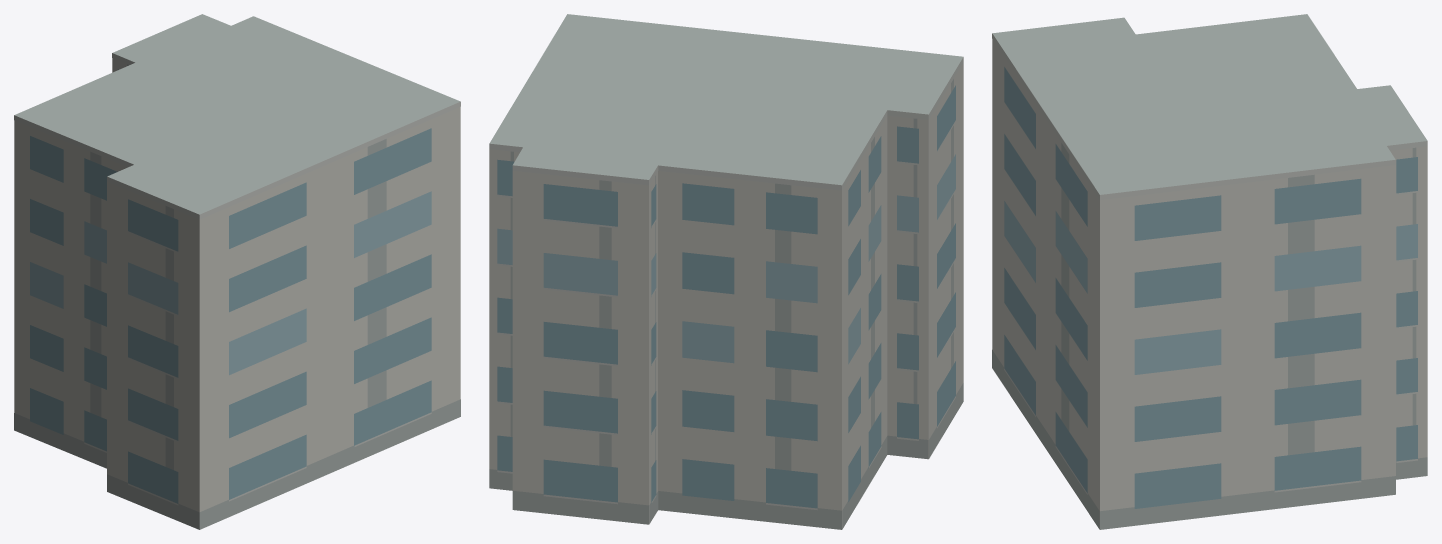
The model's file is residential-a1270844-952e-44d7-92f8-92a1d9ad094c.glb.
3 views of the same model, side by side, from view 1: azimuth 30°, elevation 25°; view 2: azimuth 150°, elevation 25°; view 3: azimuth 270°, elevation 25° (orthographic). The views are drawn at different scales.
Visible parts, largest first — view 1: residential-a1270844-952e-44d7-92f8-92a1d9ad094c.tmp; view 2: residential-a1270844-952e-44d7-92f8-92a1d9ad094c.tmp; view 3: residential-a1270844-952e-44d7-92f8-92a1d9ad094c.tmp.
Part boxes in pixels (<box>): residential-a1270844-952e-44d7-92f8-92a1d9ad094c.tmp: <box>14,14,460,529</box>; residential-a1270844-952e-44d7-92f8-92a1d9ad094c.tmp: <box>489,14,963,529</box>; residential-a1270844-952e-44d7-92f8-92a1d9ad094c.tmp: <box>992,14,1427,529</box>.
Size of the model in its own units: 17.68 by 15.25 by 17.98.
